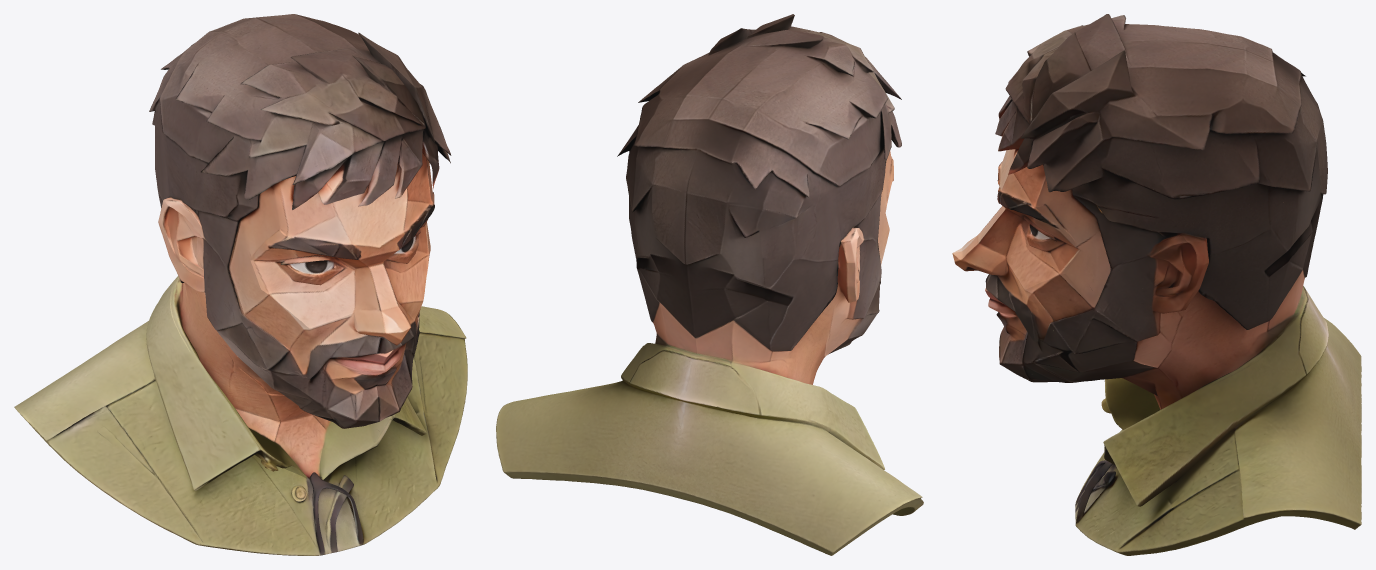
File: luwai_HD_1783280040963.glb
The picture shows the model from 3 angles, left to right: view 1: azimuth 30°, elevation 25°; view 2: azimuth 150°, elevation 25°; view 3: azimuth 270°, elevation 25°; orthographic projection. The views are drawn at different scales.
Visible parts, largest first — view 1: model; view 2: model; view 3: model.
Part boxes in pixels (<box>): model: <box>14,14,467,555</box>; model: <box>496,14,923,555</box>; model: <box>952,14,1361,555</box>.
Bounding box in the file's own units: 1.7 × 1.89 × 1.43.
1 material, 1 textured.
